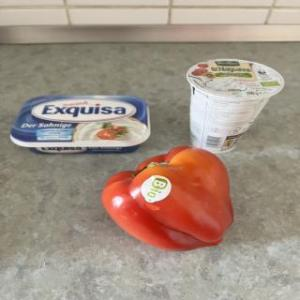cabbage: (95, 142, 236, 254)
